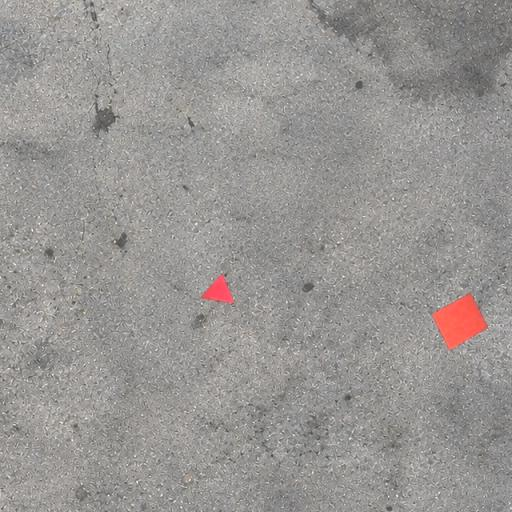RED_SQUARE: (431, 292, 490, 351)
